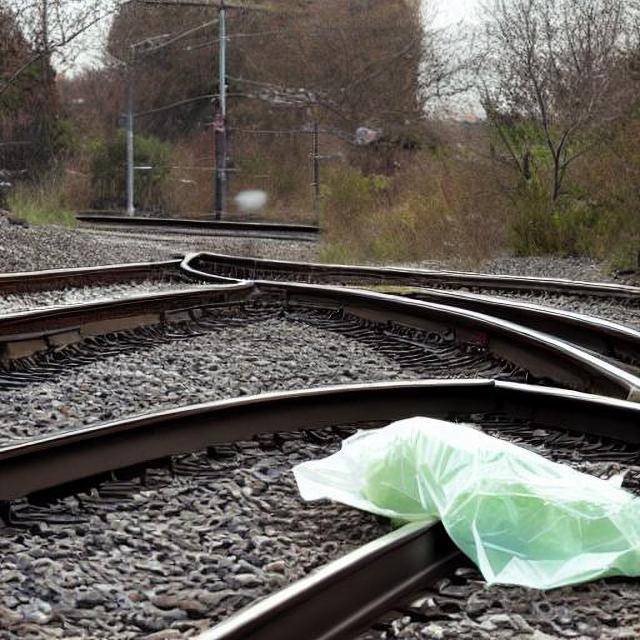plastic bag: (279, 412, 640, 596)
